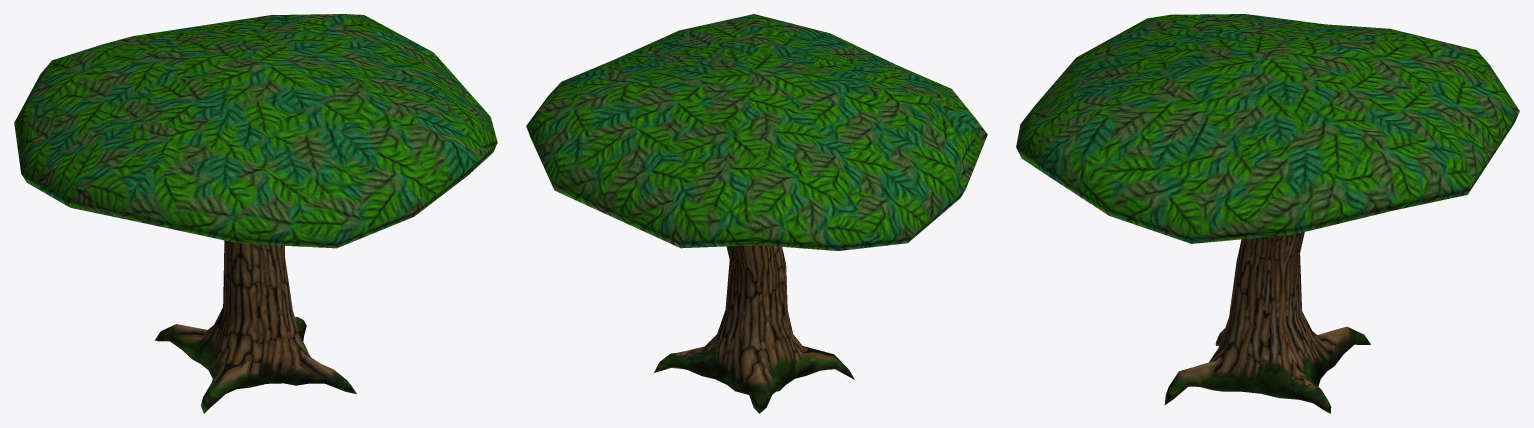
Rendered from MeshShape.dae.
3 views of the same model, side by side, from view 1: azimuth 30°, elevation 25°; view 2: azimuth 150°, elevation 25°; view 3: azimuth 270°, elevation 25° (orthographic). The views are drawn at different scales.
Parts seen in each view (by area): view 1: Mesh; view 2: Mesh; view 3: Mesh.
Part boxes in pixels (x1=…): Mesh: x1=14, y1=14, x2=497, y2=413; Mesh: x1=526, y1=14, x2=987, y2=413; Mesh: x1=1016, y1=14, x2=1519, y2=413.
Size of the model in its own units: 27.08 by 20.06 by 27.79.
1 material, 1 textured.
